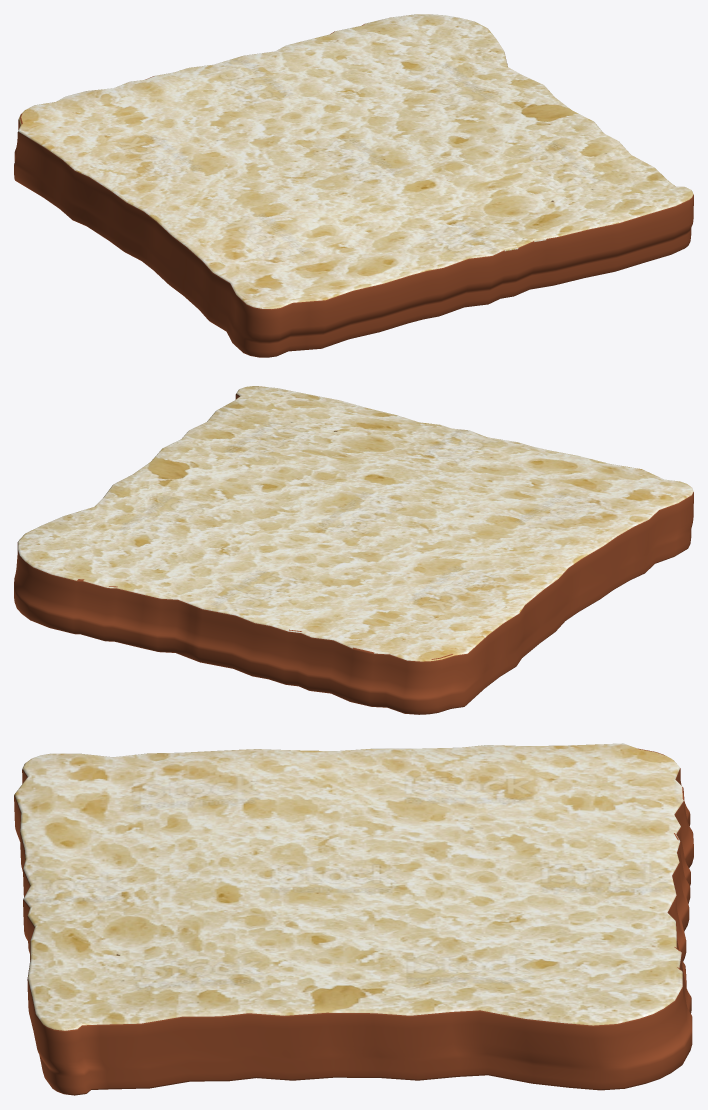
The model's file is Toast.fbx.
The picture shows the model from 3 angles, top to bottom: view 1: azimuth 30°, elevation 25°; view 2: azimuth 150°, elevation 25°; view 3: azimuth 270°, elevation 25°; orthographic projection. The views are drawn at different scales.
Visible parts, largest first — view 1: Toast; view 2: Toast; view 3: Toast.
Part boxes in pixels (x1,y1,x2,y2): Toast: [14, 14, 693, 357]; Toast: [14, 386, 693, 714]; Toast: [14, 743, 693, 1095].
Bounding box in the file's own units: 488 × 61.78 × 497.
